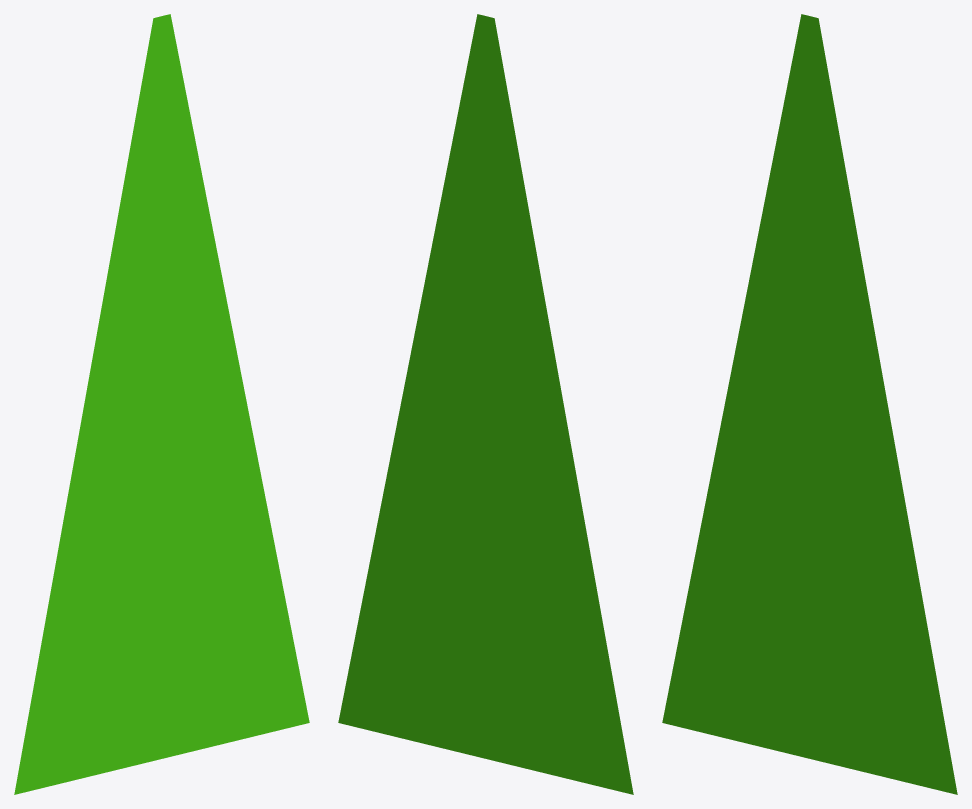
File: Four.fbx
3 renders of one model, left to right at view 1: azimuth 30°, elevation 25°; view 2: azimuth 150°, elevation 25°; view 3: azimuth 330°, elevation 25°, orthographic.
Visible parts, largest first — view 1: Plane; view 2: Plane; view 3: Plane.
Boxes of the visible parts, <box> form: Plane: <box>14,14,309,794</box>; Plane: <box>338,14,633,794</box>; Plane: <box>662,14,957,794</box>.
Size of the model in its own units: 20 by 48.05 by 7.83e-06.
